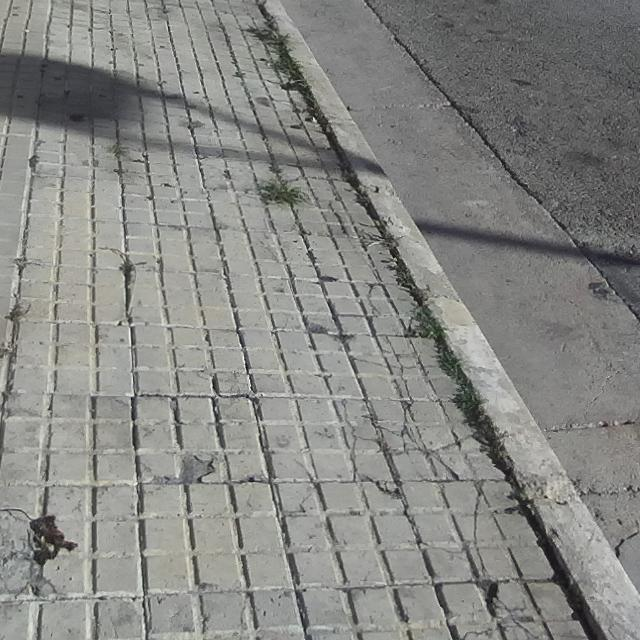calcada_quebrada: (369, 401, 465, 484), (347, 335, 429, 400), (331, 397, 368, 484), (469, 473, 494, 577), (289, 458, 322, 515), (356, 282, 392, 334), (415, 542, 468, 575), (324, 198, 357, 240), (457, 627, 550, 640), (373, 482, 408, 505)
